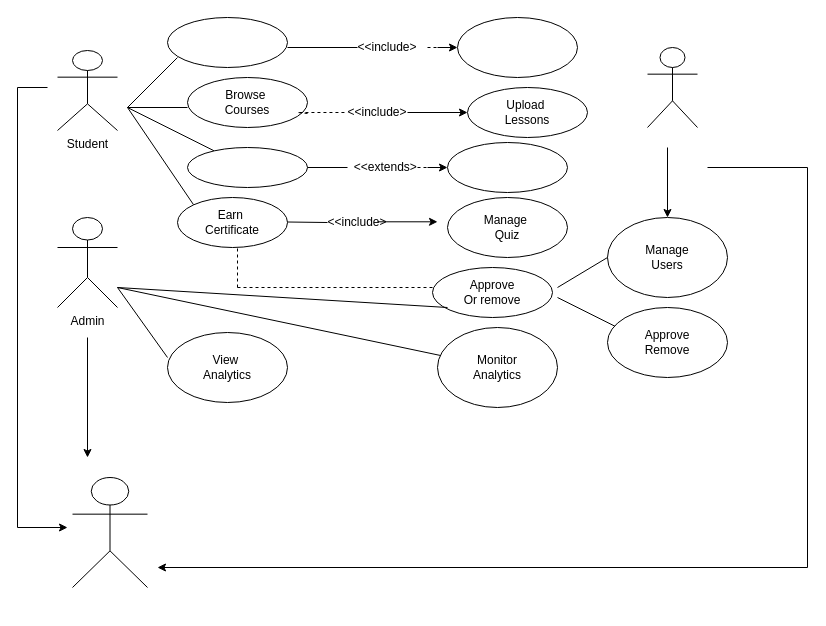
The diagram is 826 pixels wide and 626 high, and some of its shapes have lost their labels. Here are the shapes that lost their labels. From the top down, the box of each, then its label:
(166, 16, 288, 68): Register / Login
(456, 16, 578, 78): Create Course
(646, 46, 698, 128): Instructor
(186, 146, 308, 188): View Lessons
(446, 142, 568, 192): Manage Course
(72, 476, 148, 588): User
